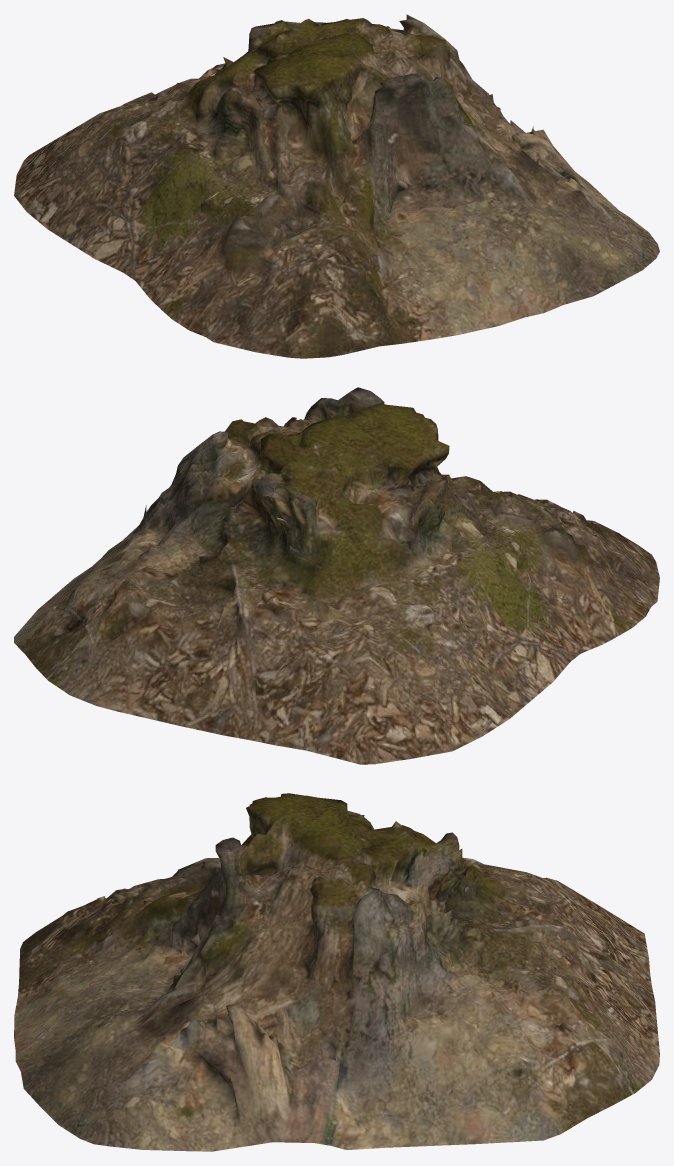
File: tree_stump_01.glb
3 views of the same model, one above another, from view 1: azimuth 30°, elevation 25°; view 2: azimuth 150°, elevation 25°; view 3: azimuth 270°, elevation 25° (orthographic). The views are drawn at different scales.
Parts seen in each view (by area): view 1: tree_stump_01; view 2: tree_stump_01; view 3: tree_stump_01.
Part boxes in pixels (x1,y1,x2,y2): tree_stump_01: [14, 14, 659, 358]; tree_stump_01: [14, 387, 659, 764]; tree_stump_01: [14, 793, 659, 1151].
Size of the model in its own units: 1.43 by 0.5709 by 1.59.
1 material, 1 textured.
